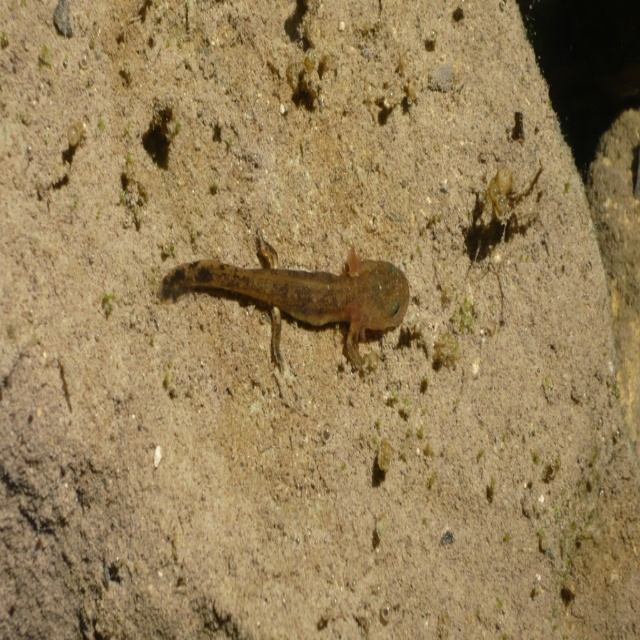Lizard: (157, 243, 410, 386)
